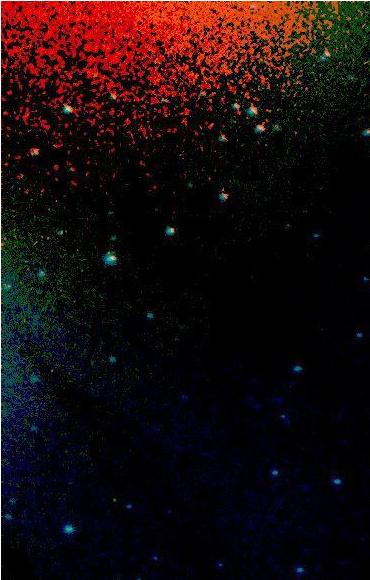star: (100, 484, 130, 514)
